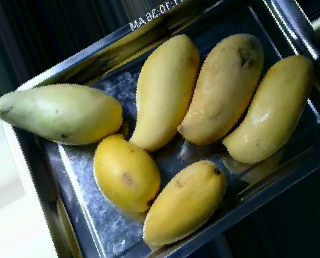Mango: (223, 55, 313, 164), (177, 32, 265, 143), (125, 33, 202, 149), (0, 83, 123, 145), (141, 160, 226, 245), (93, 134, 160, 211)
